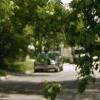Tree: (20, 0, 100, 68)
